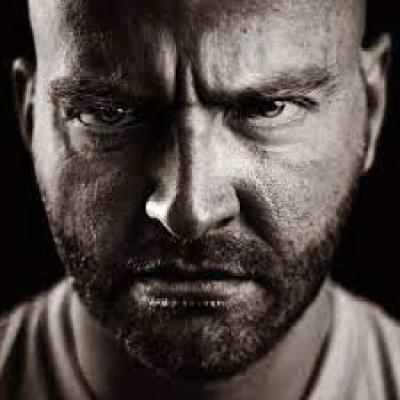angry: (27, 0, 392, 380)
